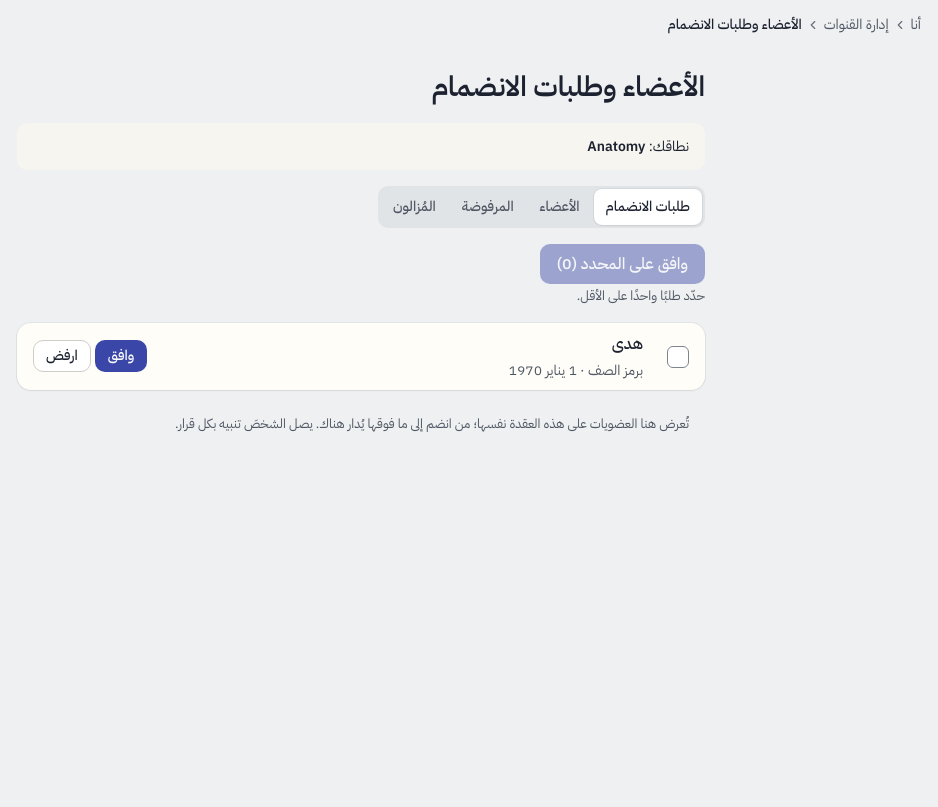
Scenario: AOS-20.19 — «الأعضاء وطلبات الانضمام»: a request someone decided first › another admin approved it first: «مستخدم آخر», named
Click the button with aria-label "وافق على هدى": (121, 356) [95,340,147,372]
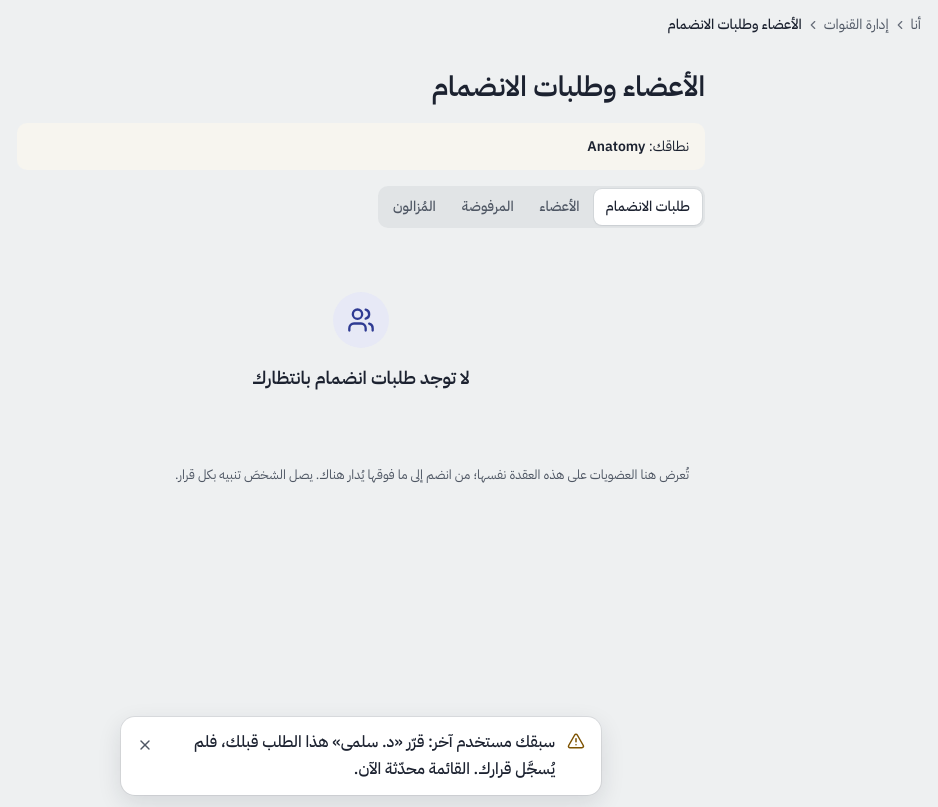
expect the text "سبقك مستخدم آخر: قرّر «د. سلمى» هذا الطلب قبلك" is shown: met, box [194,730,555,781]
